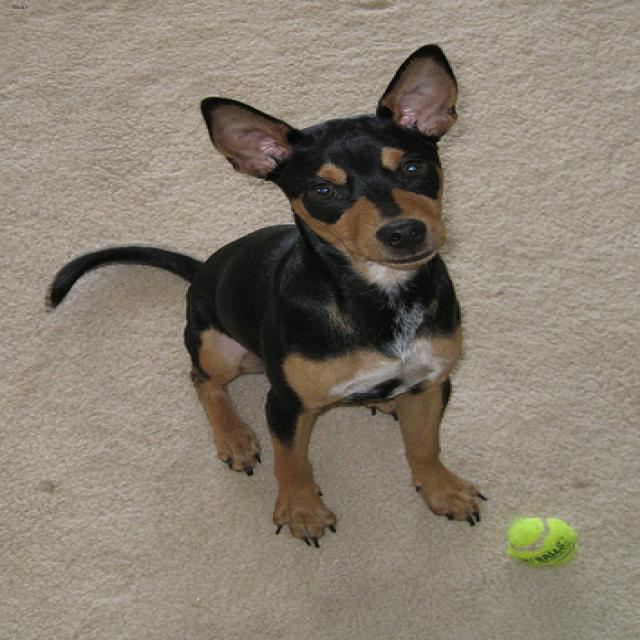dog-miniature_pinscher: (34, 36, 497, 549)
